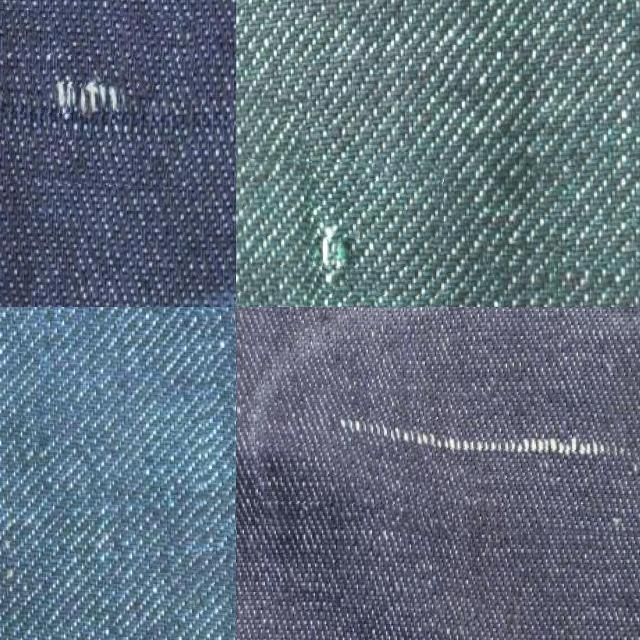stains: (258, 389, 640, 535), (0, 11, 193, 186), (236, 160, 442, 307)
